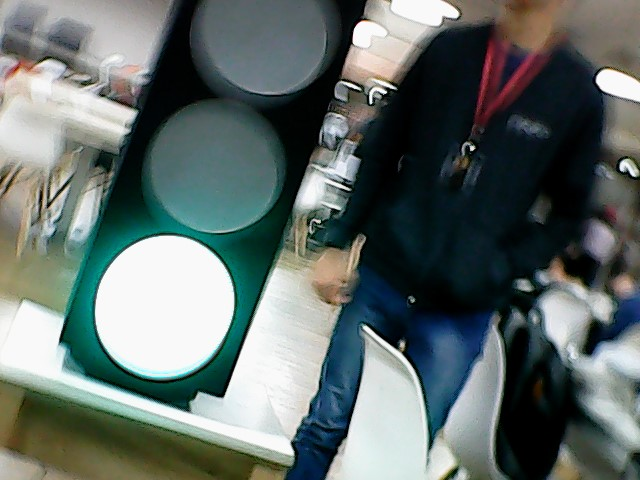verde: (53, 1, 363, 425)
